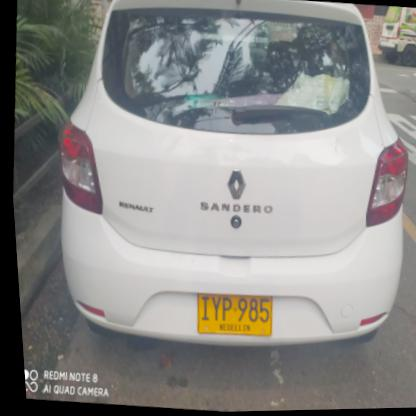placa: (186, 288, 275, 343)
